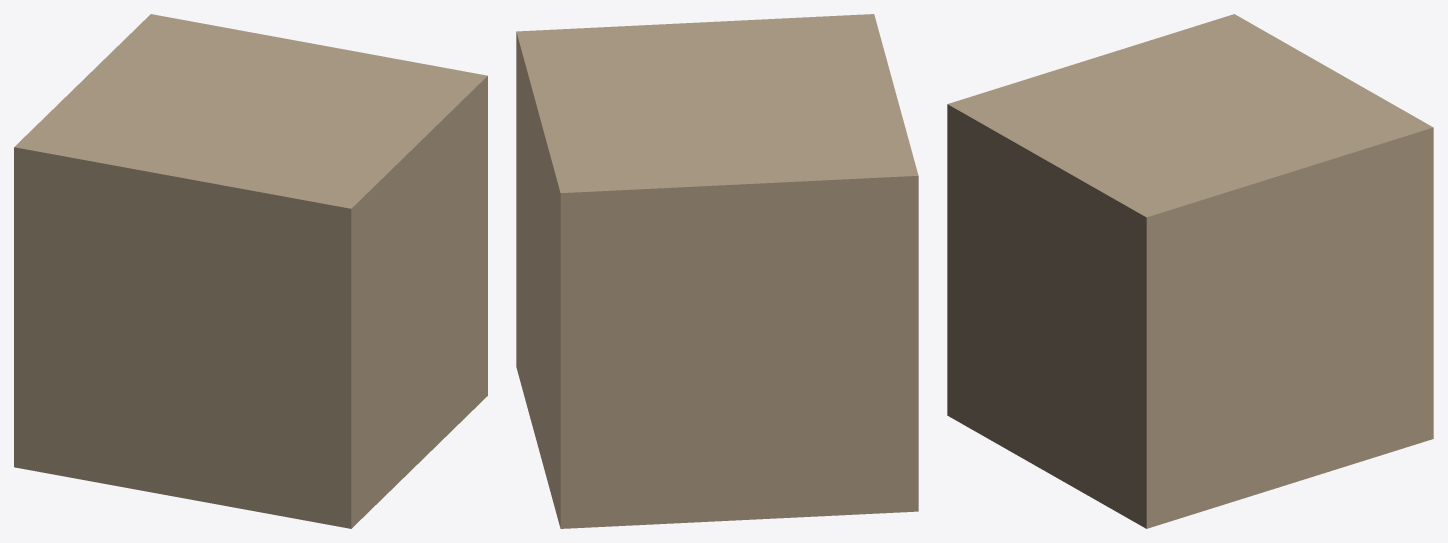
Rendered from bld_105794069.dae.
The picture shows the model from 3 angles, left to right: view 1: azimuth 30°, elevation 25°; view 2: azimuth 150°, elevation 25°; view 3: azimuth 270°, elevation 25°; orthographic projection. The views are drawn at different scales.
Parts seen in each view (by area): view 1: bld_105794069; view 2: bld_105794069; view 3: bld_105794069.
Part boxes in pixels (left/top/right/bottom): bld_105794069: left=14, top=14, right=487, bottom=528; bld_105794069: left=516, top=14, right=918, bottom=528; bld_105794069: left=947, top=14, right=1433, bottom=528.
Size of the model in its own units: 11.21 by 11.31 by 8.
